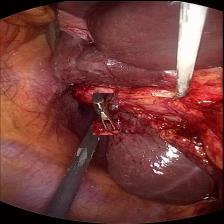Grasper: (93, 92, 118, 134)
Irrigator: (170, 79, 196, 98)
